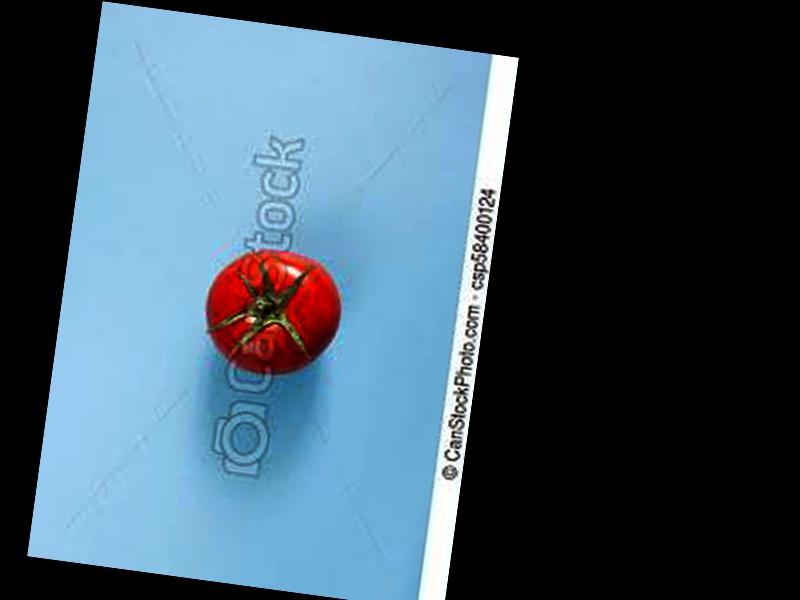Tomato: (199, 243, 350, 380)
